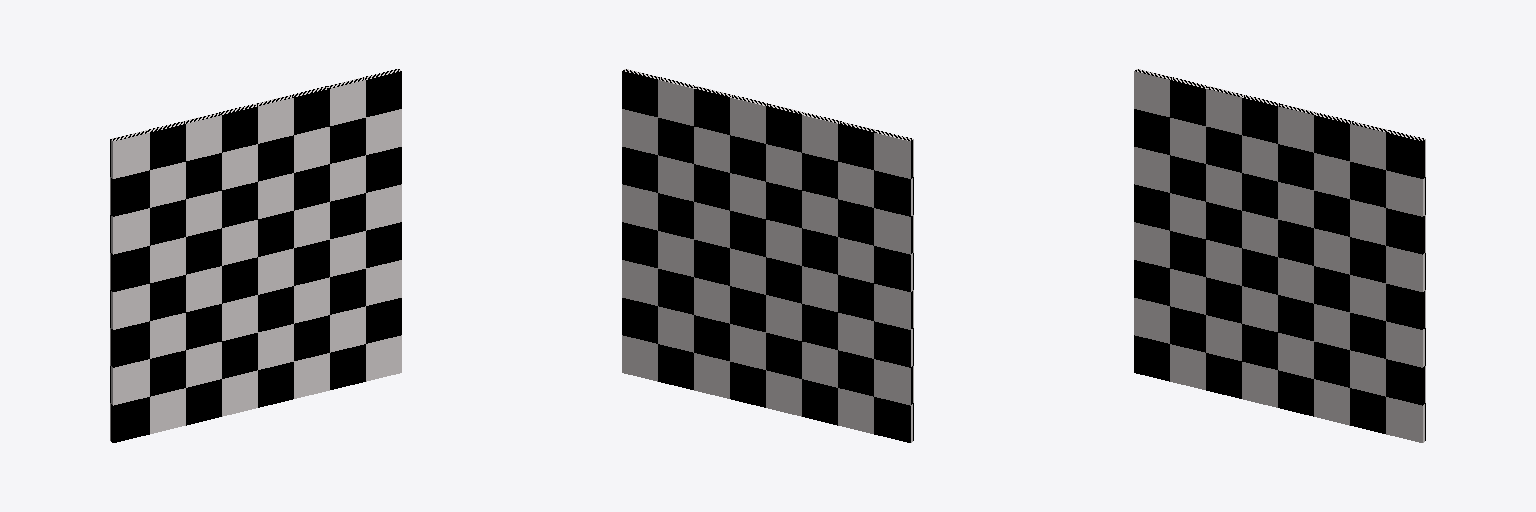
The picture shows the model from 3 angles: view 1: azimuth 30°, elevation 25°; view 2: azimuth 150°, elevation 25°; view 3: azimuth 330°, elevation 25°; orthographic projection.
Visible parts, largest first — view 1: Cube; view 2: Cube; view 3: Cube.
Boxes of the visible parts, box(x1,y1,x2,y2) form: Cube: box(110, 69, 401, 442); Cube: box(622, 69, 913, 442); Cube: box(1134, 69, 1425, 442).
Size of the model in its own units: 10 by 10 by 0.2.
1 materials, 1 textured.